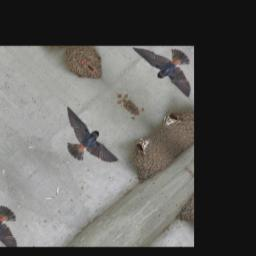Swallow: (41, 102, 125, 181)
